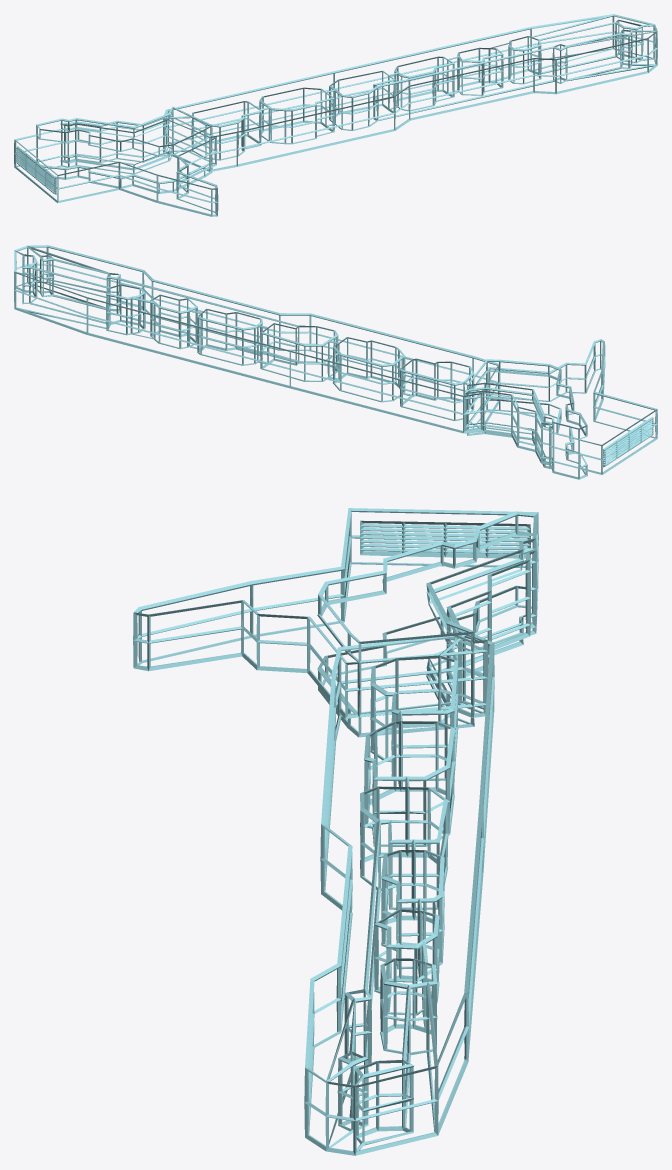
File: 검 손잡이 3.fbx
3 views of the same model, one above another, from view 1: azimuth 30°, elevation 25°; view 2: azimuth 150°, elevation 25°; view 3: azimuth 270°, elevation 25° (orthographic). The views are drawn at different scales.
Parts seen in each view (by area): view 1: 카타나3; view 2: 카타나3; view 3: 카타나3.
Part boxes in pixels (bbox=[...]): 카타나3: bbox=[14, 14, 657, 216]; 카타나3: bbox=[14, 245, 657, 479]; 카타나3: bbox=[133, 508, 538, 1155].
Size of the model in its own units: 1375 by 105 by 403.
